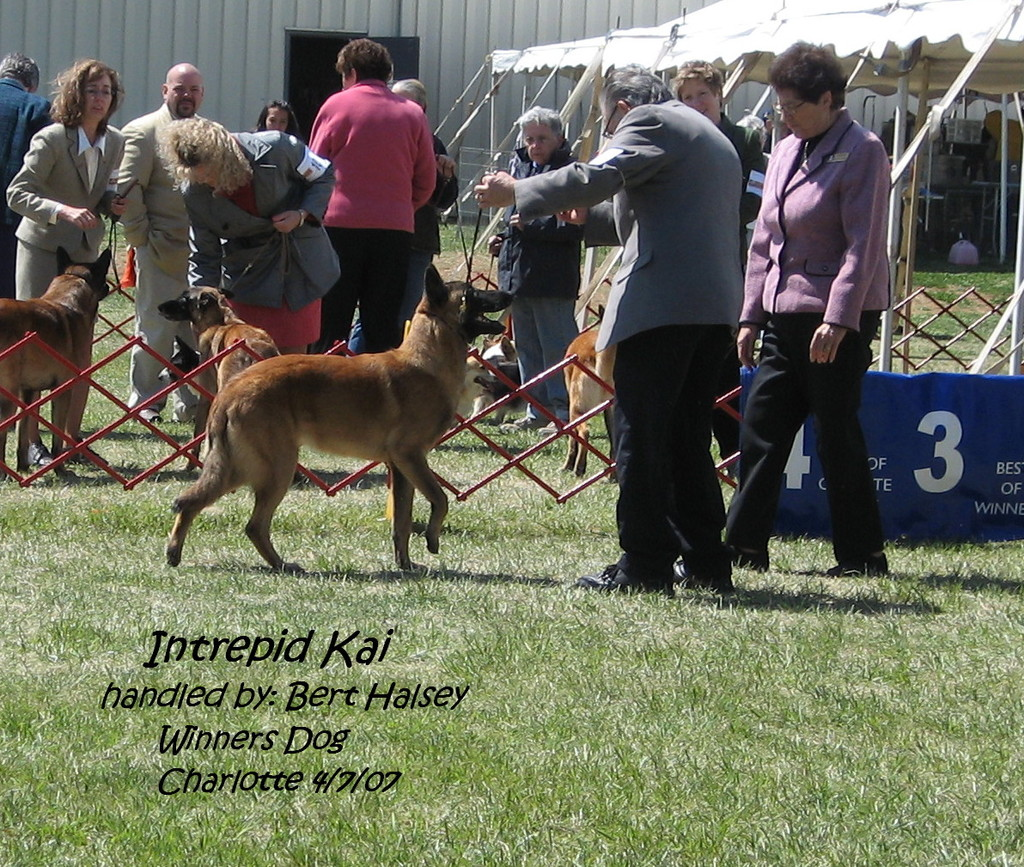Person: (0, 36, 890, 600)
